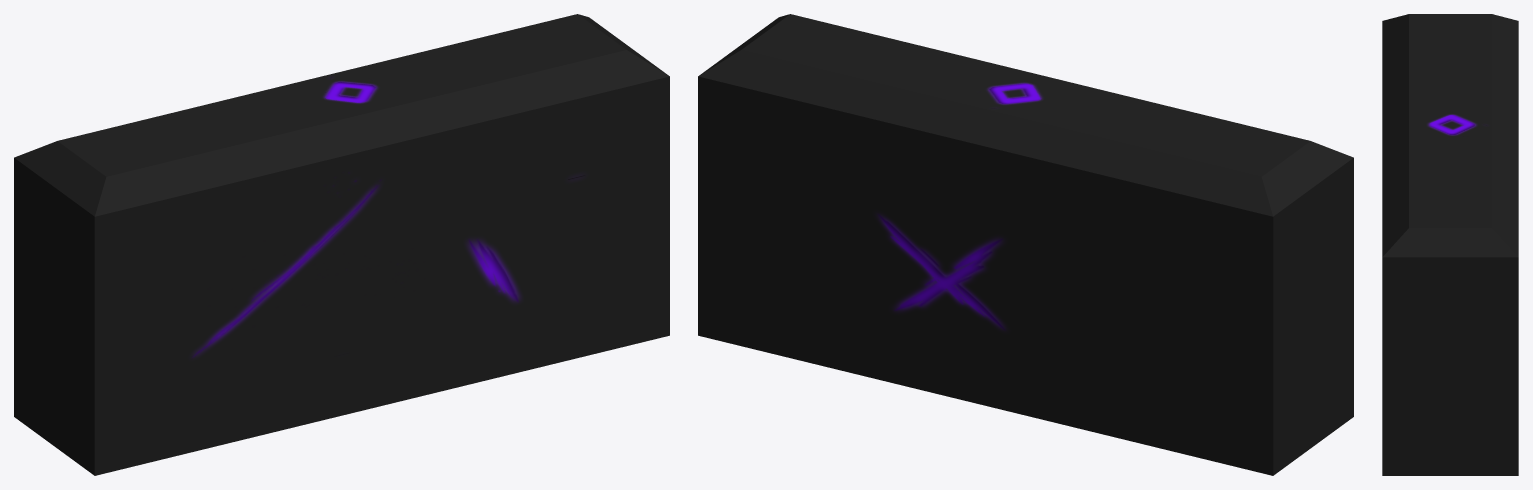
Rendered from Wall.fbx.
3 views of the same model, side by side, from view 1: azimuth 30°, elevation 25°; view 2: azimuth 150°, elevation 25°; view 3: azimuth 270°, elevation 25° (orthographic). The views are drawn at different scales.
Visible parts, largest first — view 1: Box001; view 2: Box001; view 3: Box001.
Part boxes in pixels (bbox=[...]): Box001: bbox=[14, 14, 669, 475]; Box001: bbox=[698, 14, 1353, 475]; Box001: bbox=[1382, 14, 1518, 475].
Size of the model in its own units: 129 by 60.04 by 31.31.
1 material, 1 textured.
